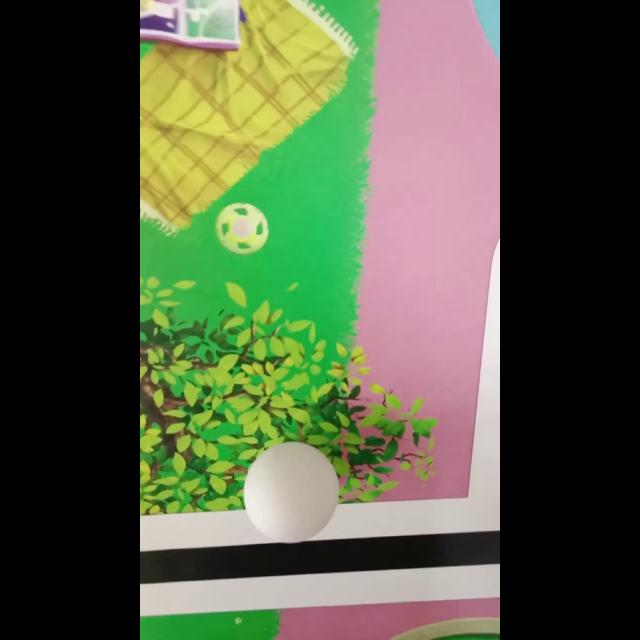white ball: (242, 441, 340, 543)
